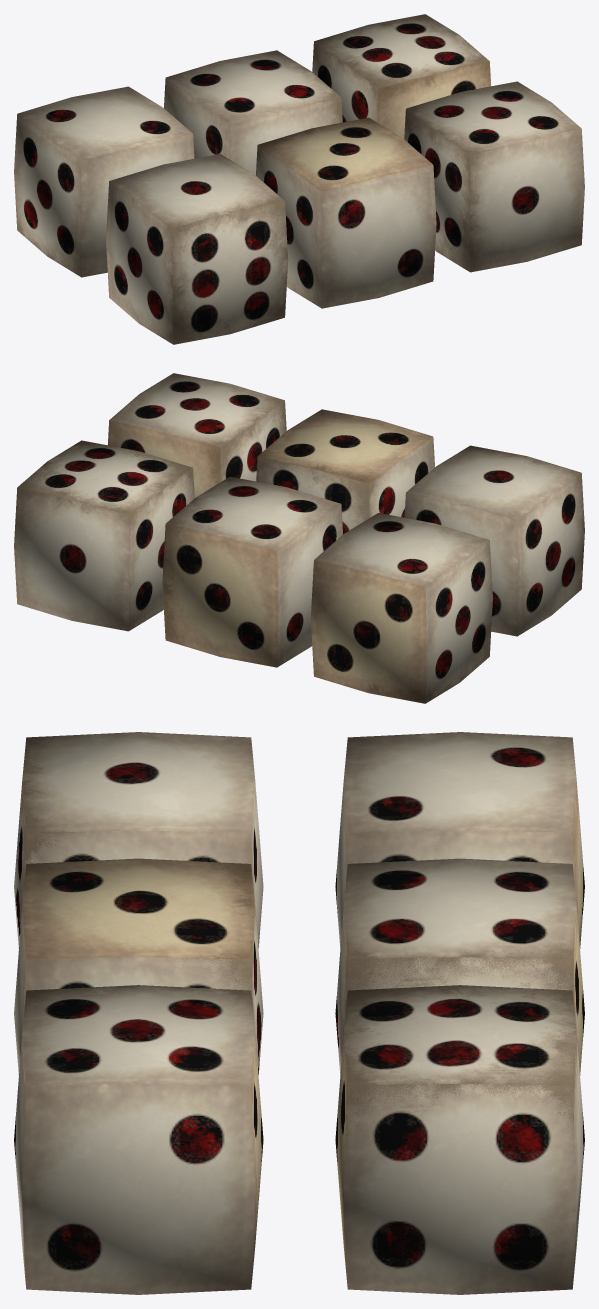
File: diceblocks.glb
The picture shows the model from 3 angles, top to bottom: view 1: azimuth 30°, elevation 25°; view 2: azimuth 150°, elevation 25°; view 3: azimuth 270°, elevation 25°; orthographic projection. The views are drawn at different scales.
Parts seen in each view (by area): view 1: dice, dice.005, dice.004, dice.001, dice.002, dice.003; view 2: dice.001, dice.003, dice.002, dice, dice.004, dice.005; view 3: dice.003, dice.005, dice, dice.001, dice.002, dice.004.
Part boxes in pixels (left/top/right/bottom): dice: left=106, top=154, right=288, bottom=344; dice.005: left=404, top=81, right=584, bottom=272; dice.004: left=256, top=117, right=436, bottom=308; dice.001: left=14, top=86, right=194, bottom=277; dice.002: left=164, top=50, right=342, bottom=175; dice.003: left=312, top=14, right=490, bottom=138; dice.001: left=310, top=513, right=492, bottom=703; dice.003: left=14, top=440, right=194, bottom=631; dice.002: left=162, top=476, right=342, bottom=667; dice: left=404, top=445, right=584, bottom=636; dice.004: left=256, top=409, right=434, bottom=534; dice.005: left=108, top=373, right=286, bottom=497; dice.003: left=335, top=985, right=584, bottom=1294; dice.005: left=14, top=985, right=263, bottom=1294; dice: left=14, top=732, right=263, bottom=948; dice.001: left=335, top=732, right=584, bottom=948; dice.002: left=335, top=858, right=584, bottom=1075; dice.004: left=14, top=858, right=263, bottom=1075.
Size of the model in its own units: 6.8 by 2 by 4.58.
Materials: 1 (1 with a texture image).
